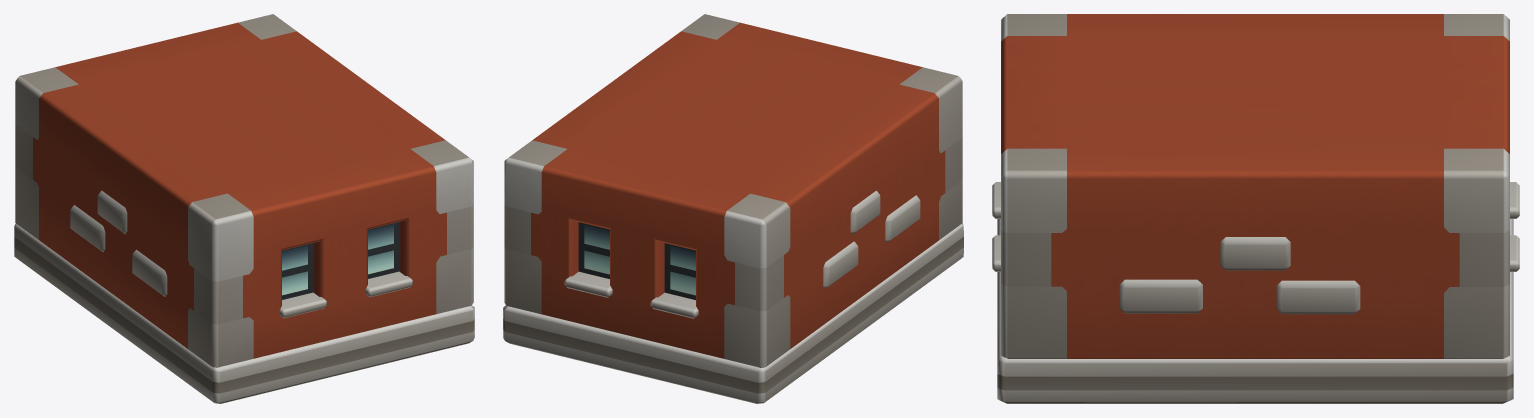
File: appartment_type1_x3_element_red.fbx
3 views of the same model, side by side, from view 1: azimuth 30°, elevation 25°; view 2: azimuth 150°, elevation 25°; view 3: azimuth 270°, elevation 25° (orthographic). The views are drawn at different scales.
Visible parts, largest first — view 1: appartment_type1_x3_element_red; view 2: appartment_type1_x3_element_red; view 3: appartment_type1_x3_element_red.
Boxes of the visible parts, bbox=[...] form: appartment_type1_x3_element_red: bbox=[14, 14, 474, 403]; appartment_type1_x3_element_red: bbox=[503, 14, 963, 403]; appartment_type1_x3_element_red: bbox=[992, 14, 1519, 403].
Bounding box in the file's own units: 628 × 409 × 839.
